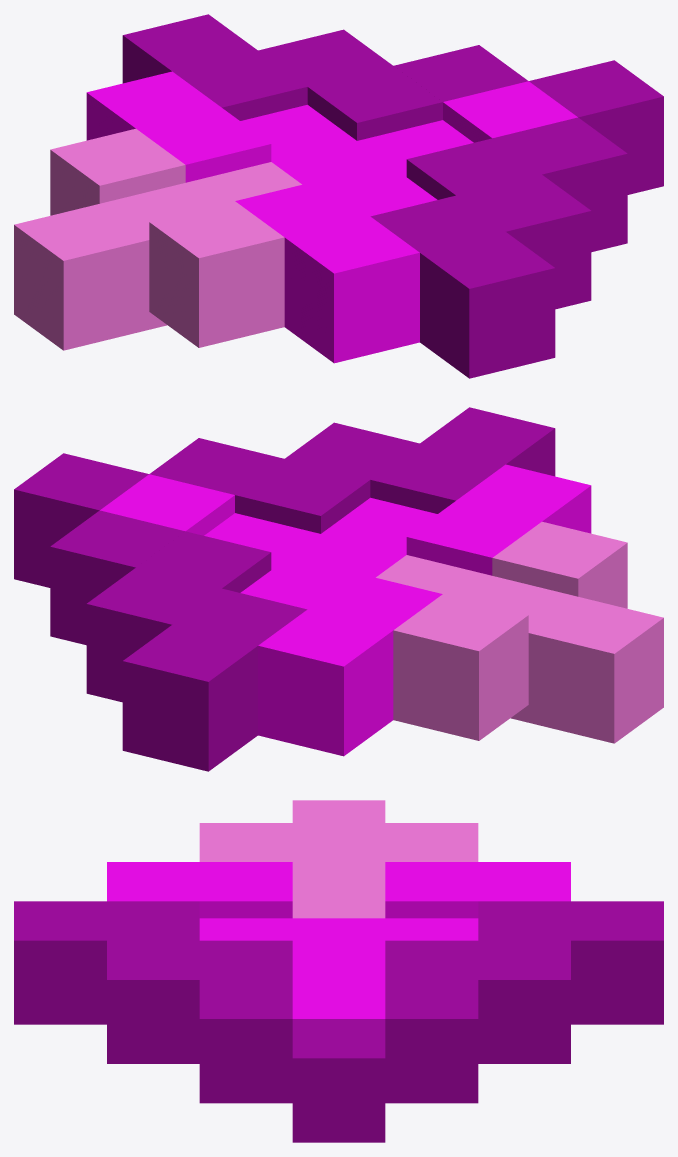
File: PurpleBlock_Ship.fbx
3 renders of one model, top to bottom at view 1: azimuth 30°, elevation 25°; view 2: azimuth 150°, elevation 25°; view 3: azimuth 270°, elevation 25°, orthographic. The views are drawn at different scales.
Visible parts, largest first — view 1: Cube.235, Cube.220, Cube.227; view 2: Cube.235, Cube.220, Cube.227; view 3: Cube.235, Cube.220, Cube.227.
Part boxes in pixels (left/top/right/bottom): Cube.235: left=122, top=14, right=663, bottom=378; Cube.220: left=86, top=71, right=577, bottom=363; Cube.227: left=14, top=128, right=301, bottom=350; Cube.235: left=14, top=407, right=555, bottom=771; Cube.220: left=100, top=464, right=591, bottom=756; Cube.227: left=376, top=521, right=663, bottom=743; Cube.235: left=14, top=901, right=663, bottom=1142; Cube.220: left=107, top=862, right=570, bottom=1018; Cube.227: left=199, top=800, right=478, bottom=918.
Size of the model in its own units: 7 by 1.2 by 7.
